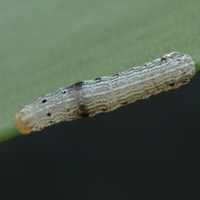insect: (14, 52, 194, 133)
